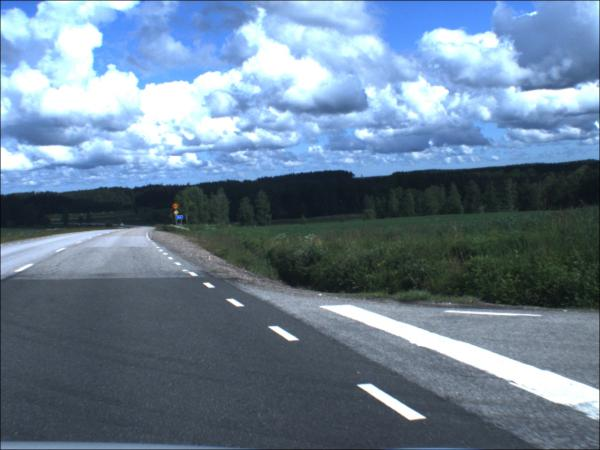80_SIGN: (174, 204, 181, 211)
PRIORITY_ROAD: (175, 211, 181, 217)
